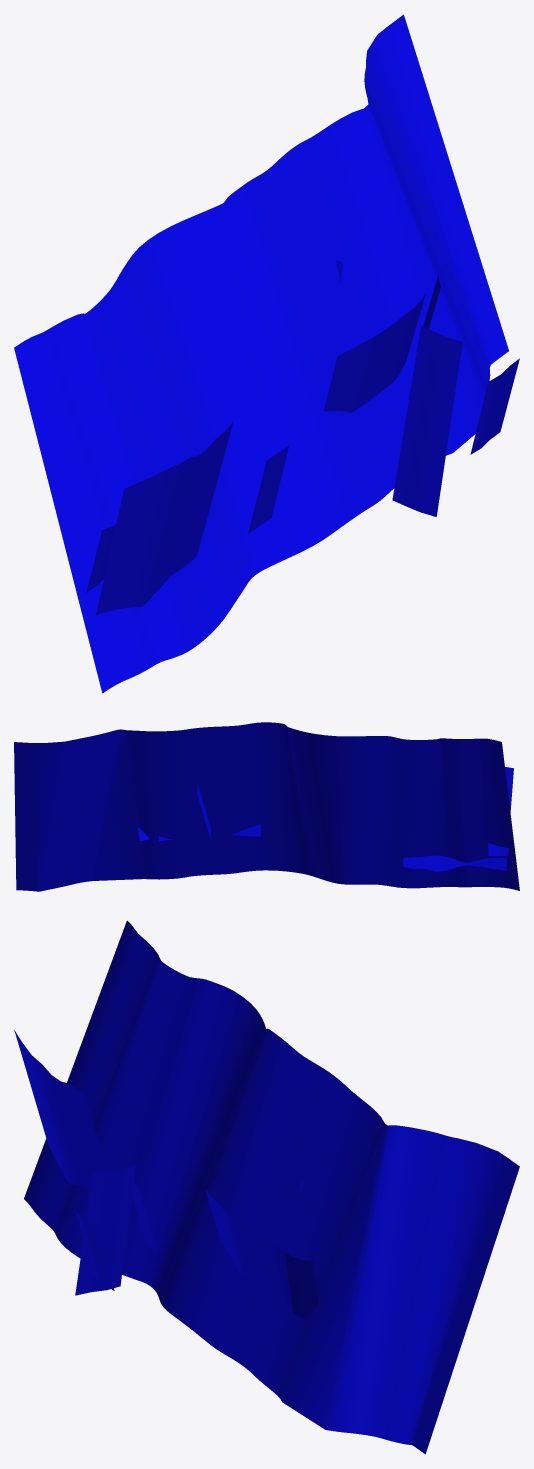
Rendered from faultage.glb.
3 renders of one model, top to bottom at view 1: azimuth 30°, elevation 25°; view 2: azimuth 150°, elevation 25°; view 3: azimuth 270°, elevation 25°, orthographic. The views are drawn at different scales.
Size of the model in its own units: 1701 by 811 by 1293.
